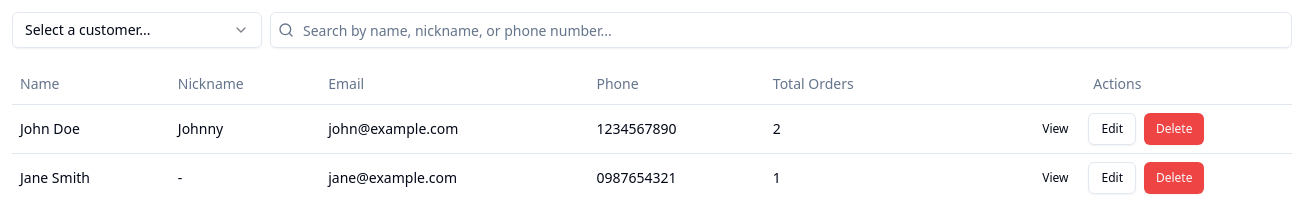
CustomerTable › filters customers by name
The width and height of the screenshot is (1304, 211).
Type "John" into the field with placeholder "Search by name, nickname, or phone number..." at (781, 30), box [270,12,1292,48]
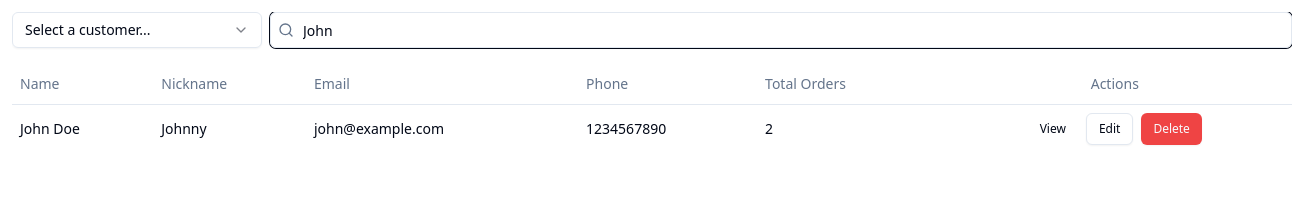
Expected: the text "John Doe" is shown, [12,104,153,152]
Expected: the text "Jane Smith" is gone
